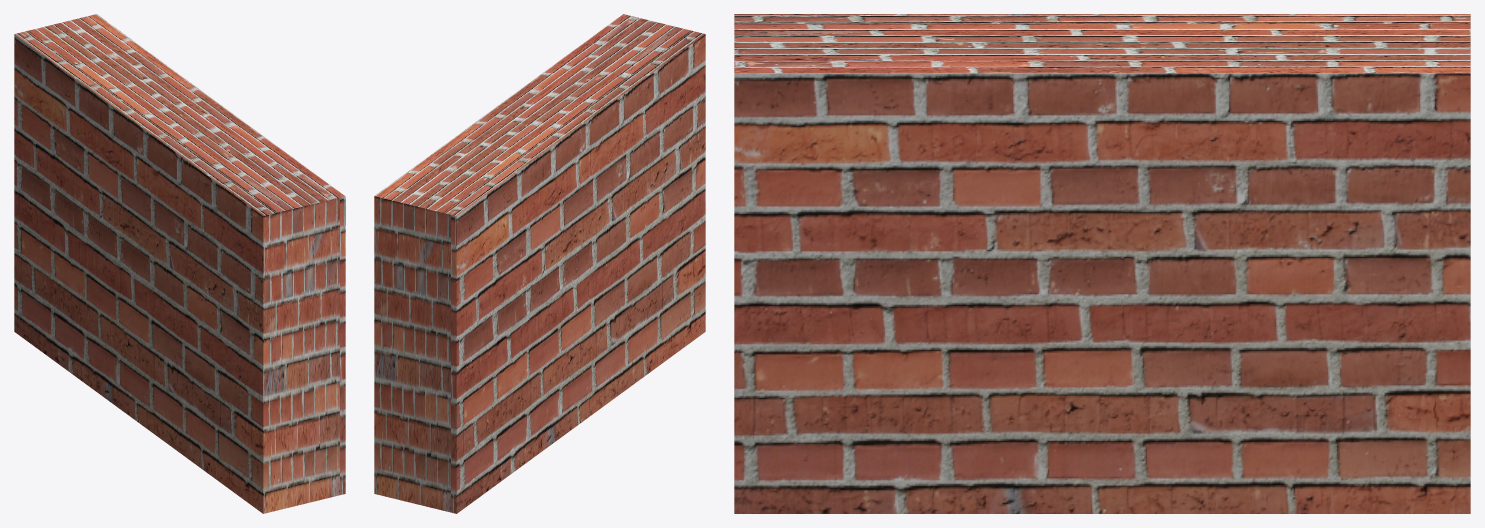
Rendered from brick_wall_model.glb.
3 views of the same model, side by side, from view 1: azimuth 30°, elevation 25°; view 2: azimuth 150°, elevation 25°; view 3: azimuth 270°, elevation 25° (orthographic). The views are drawn at different scales.
Visible parts, largest first — view 1: Cube; view 2: Cube; view 3: Cube.
Part boxes in pixels (x1,y1,x2,y2): Cube: [14, 14, 345, 513]; Cube: [374, 14, 705, 513]; Cube: [734, 14, 1470, 513].
Bounding box in the file's own units: 1.16 × 4 × 6.06.
Materials: 1 (1 with a texture image).
